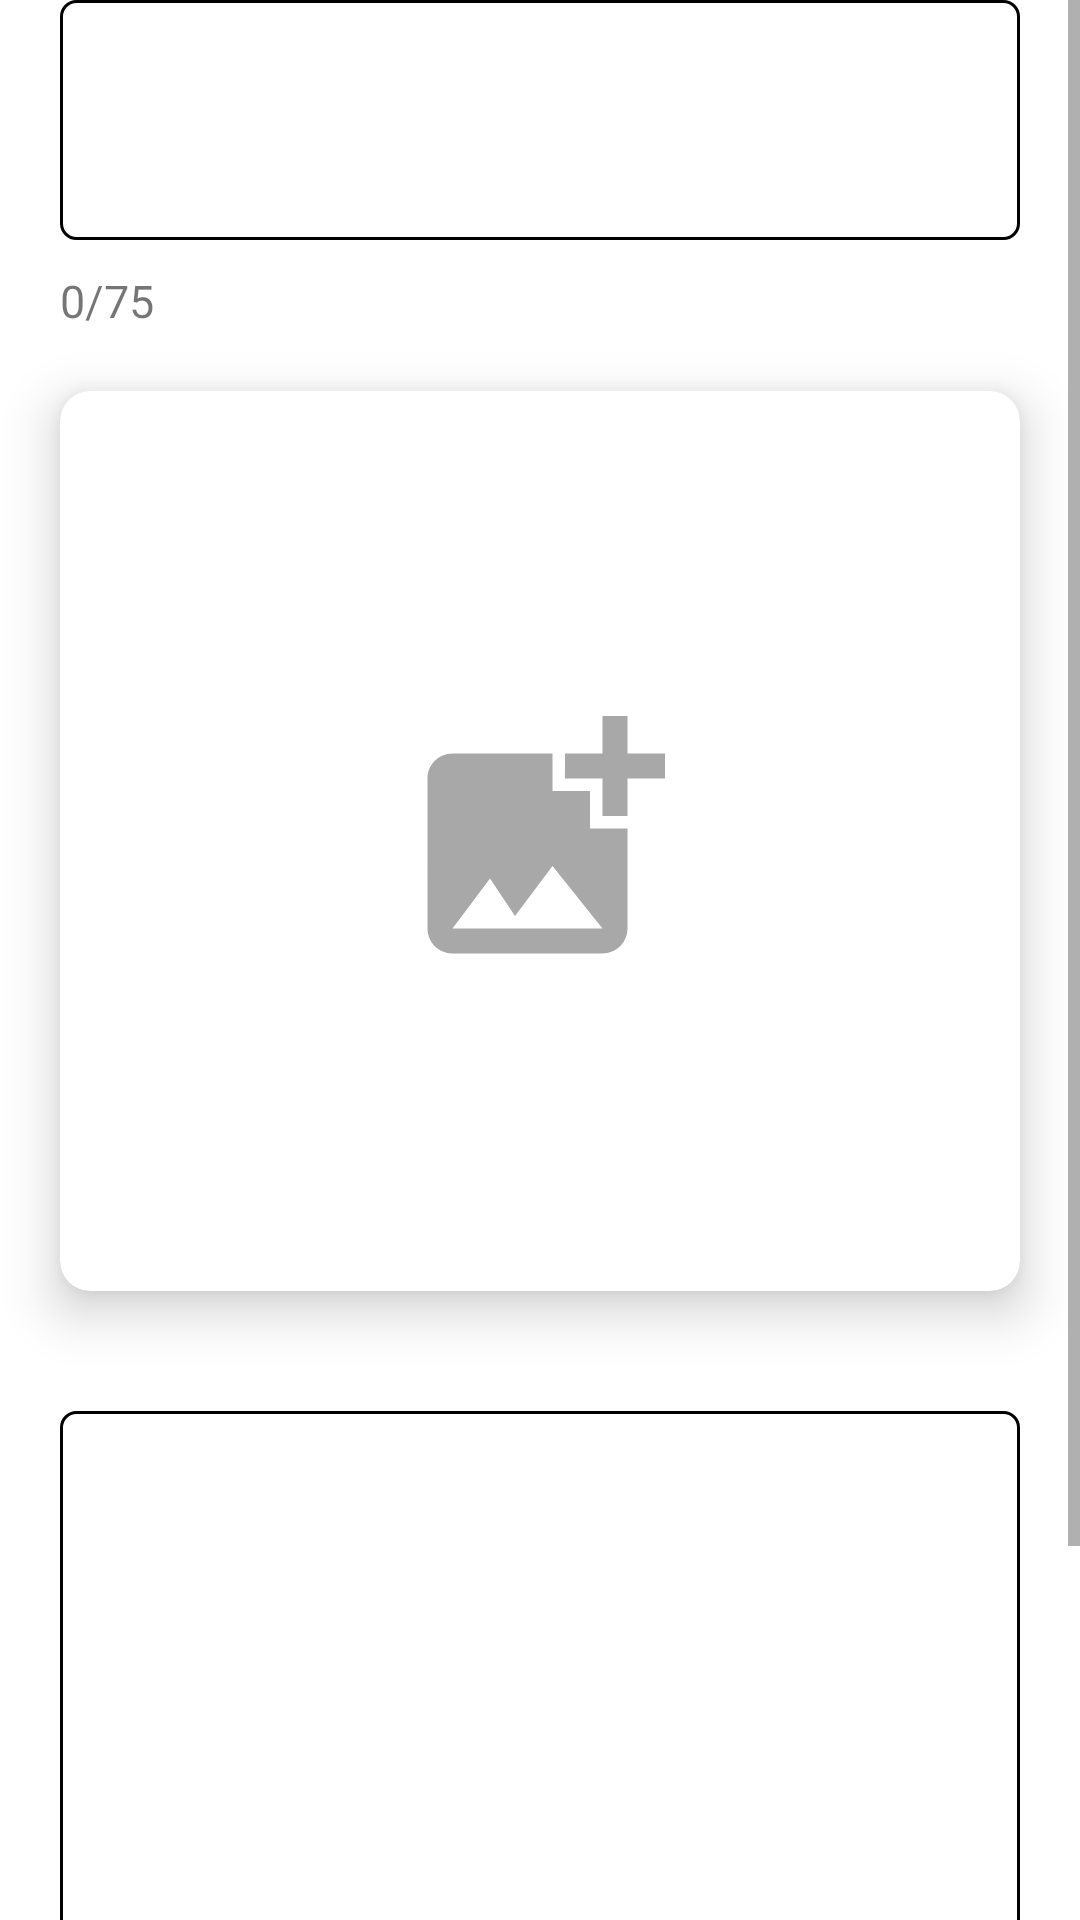

Named icons in this screenshot (1080w x 1920h) and their centers, (x,y):
add: (546,835)
